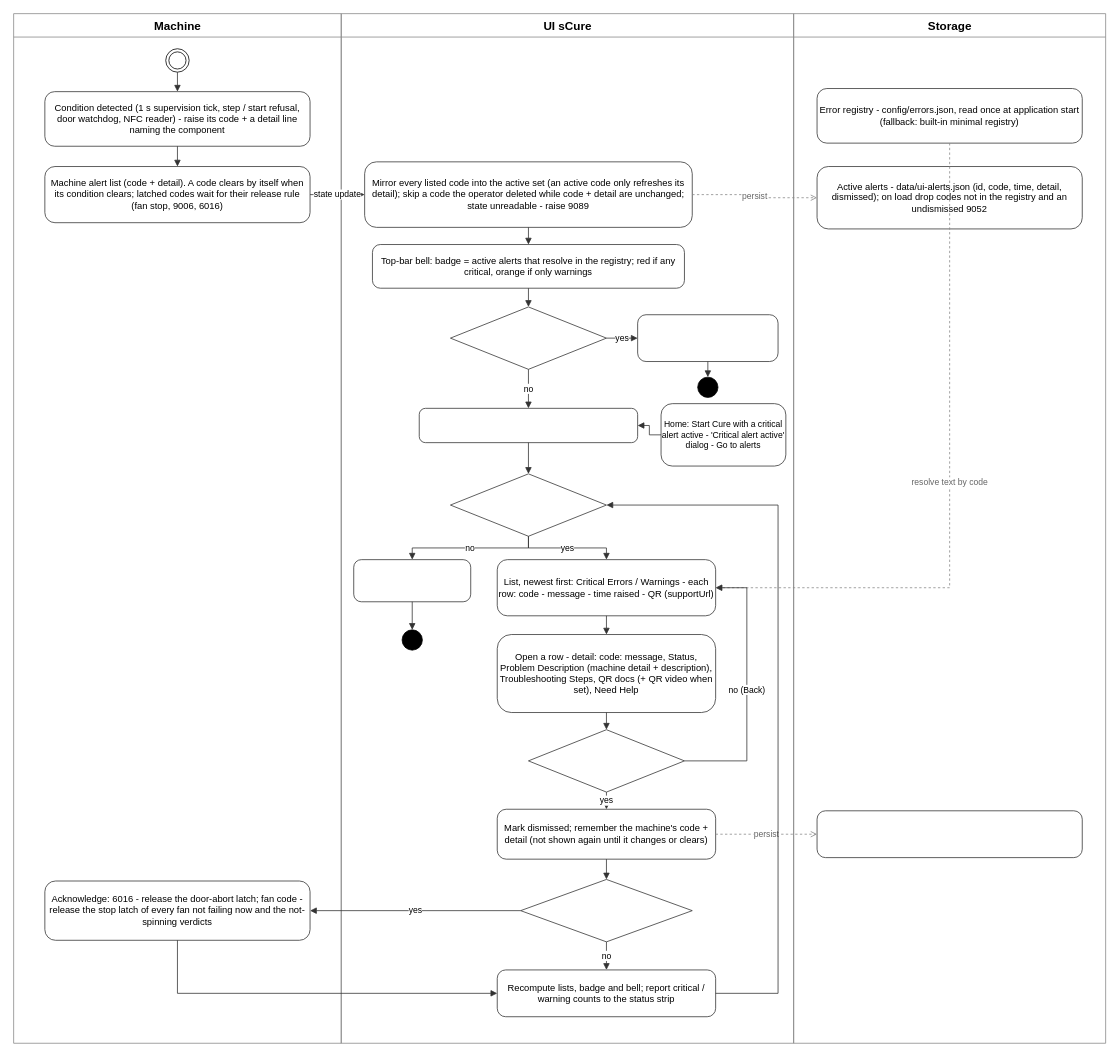
This 1119x1057 diagram has some shape labels left out. Here are the shapes that lost their labels. From the top down, the centre of each, then its label:
the point at 528,337: Cure screen open?
the point at 707,338: Bell inert - the Alerts screen is not opened during a cure
the point at 528,425: Tap the bell - open the Alerts screen
the point at 528,504: Any active alerts?
the point at 412,580: 'All Clear - No active alerts.'
the point at 606,760: Dismiss Alert?
the point at 949,834: Persist the active set (data/ui-alerts.json)
the point at 606,910: 6016 or fan code (902x / 903x / 906x)?
